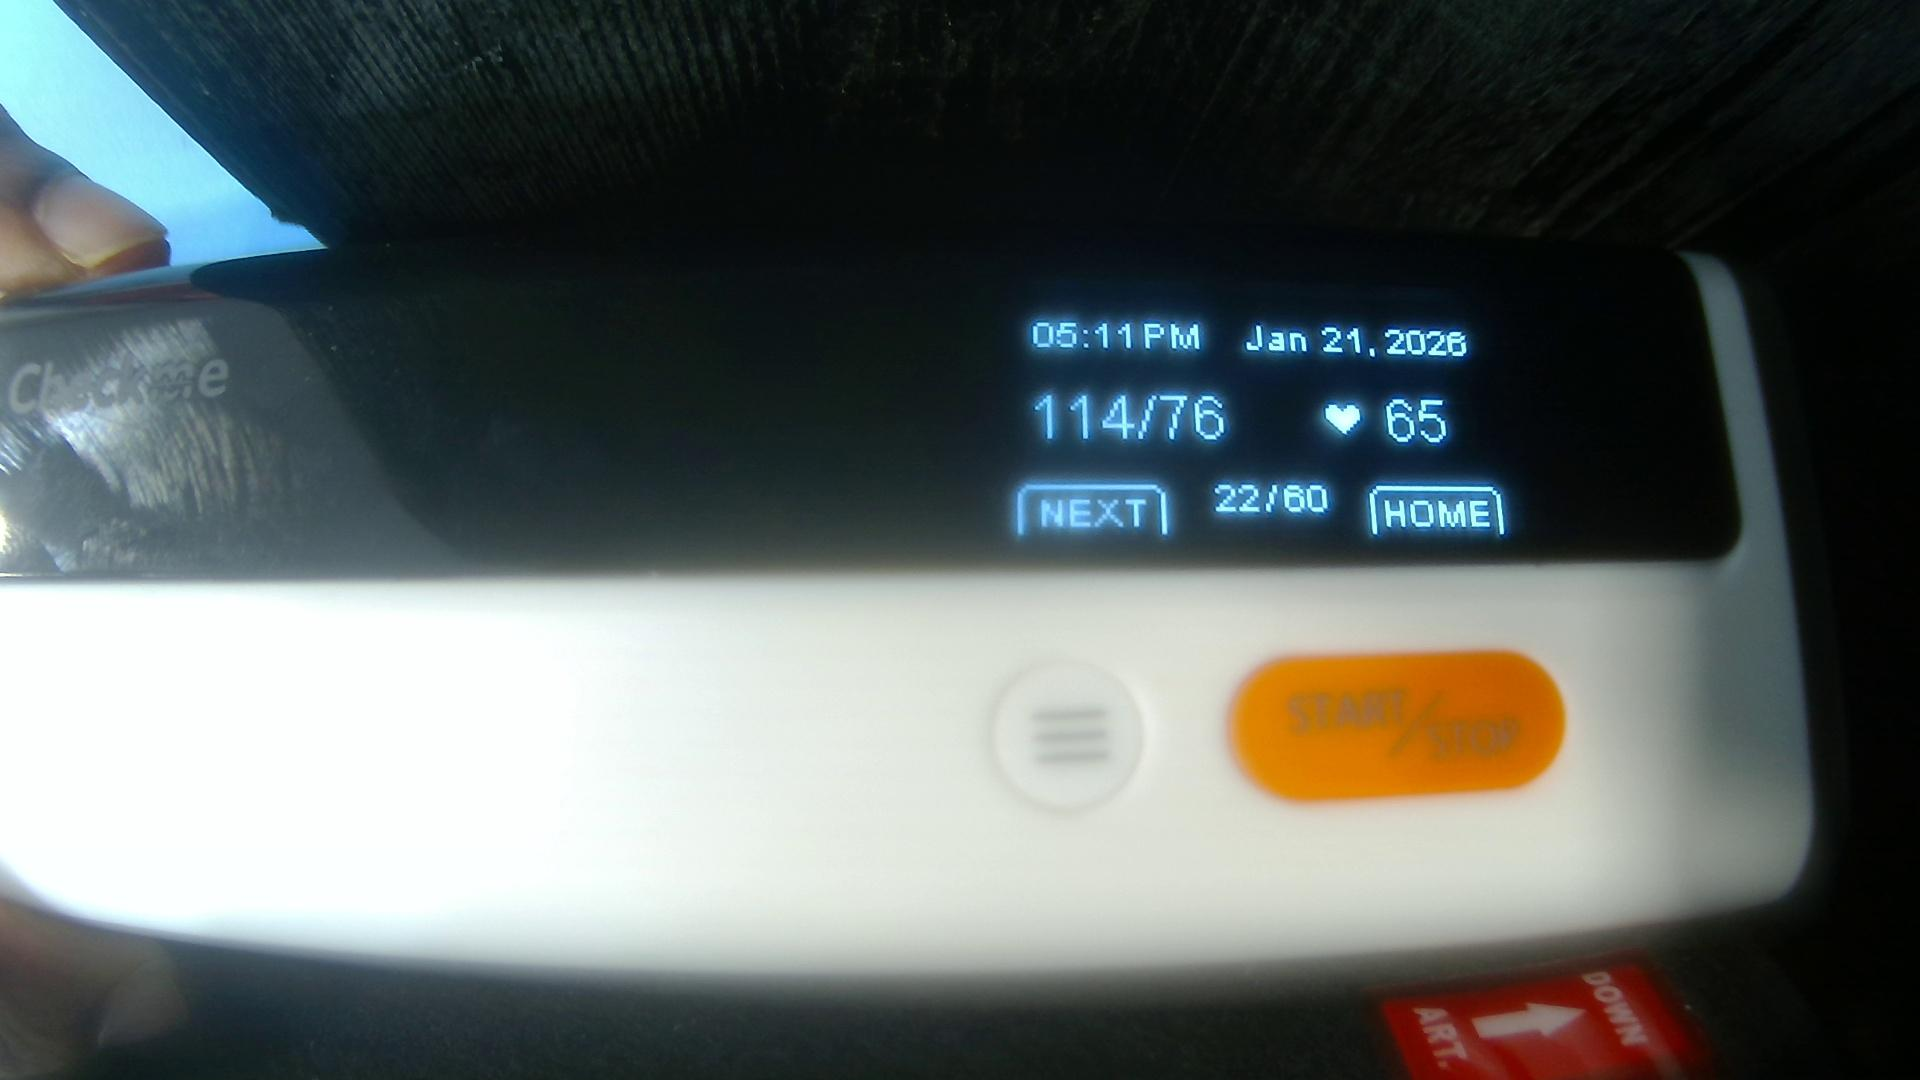DISPLAY: (16, 251, 1731, 578)
